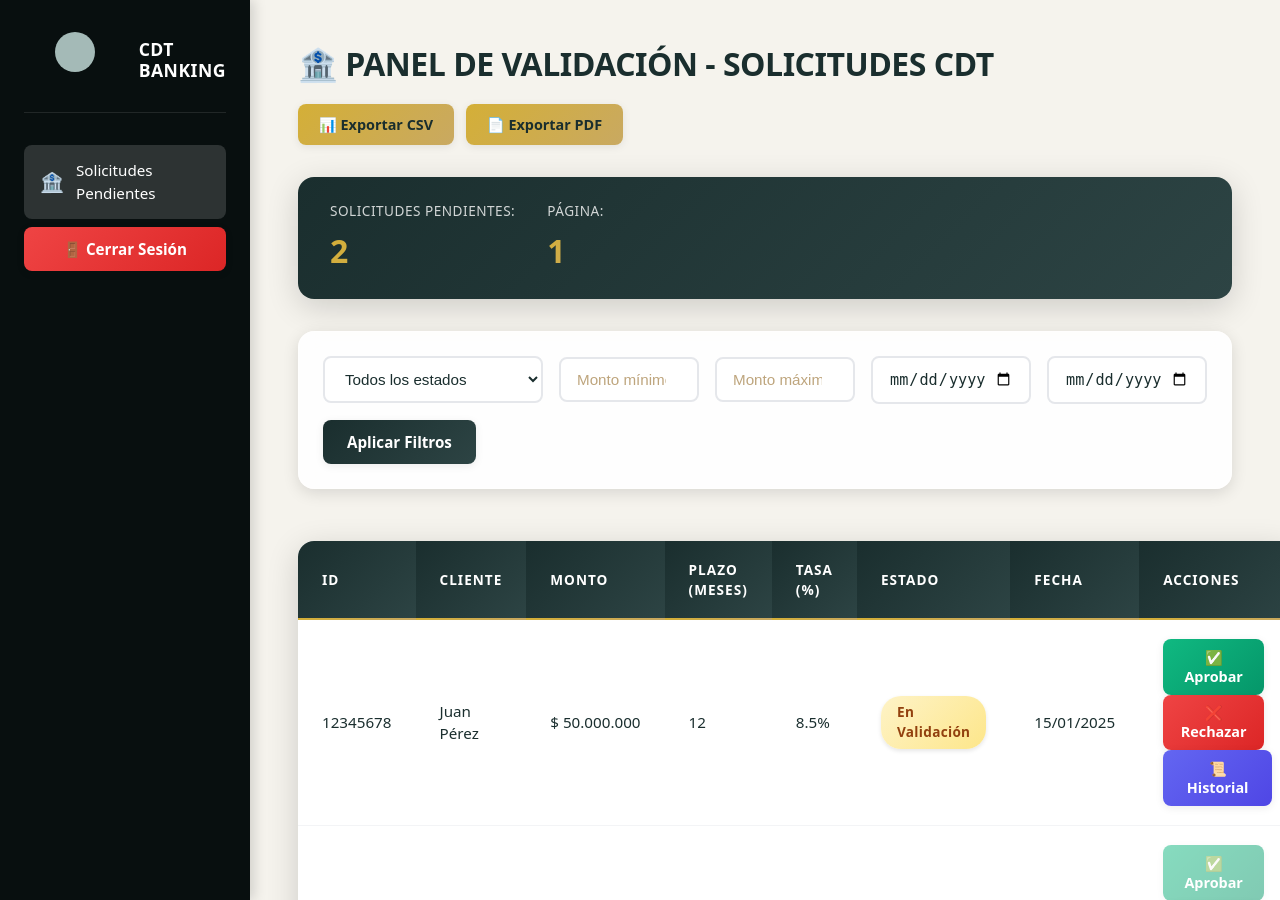
it: AgenteDashboard Component › Filtros › Debe filtrar por estado
This screenshot has width=1280, height=900.
expect the text "Juan Pérez" is shown: met, box [416,620,526,826]
Select "Aprobada" in the dropdown showing "Todos los estados" at (433, 380), box [323,356,543,403]
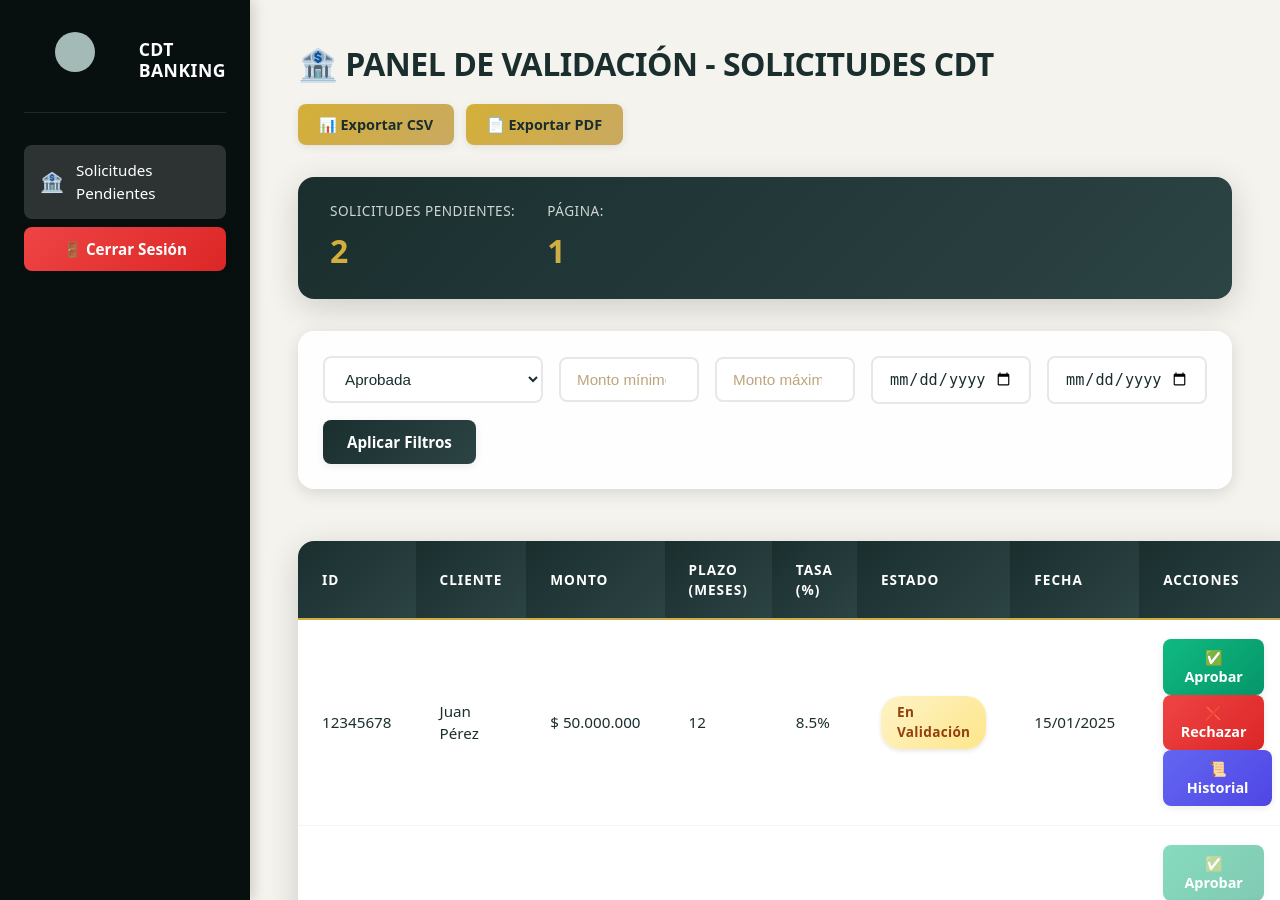
Click the button "Aplicar Filtros" at (399, 442), box [323,420,476,464]
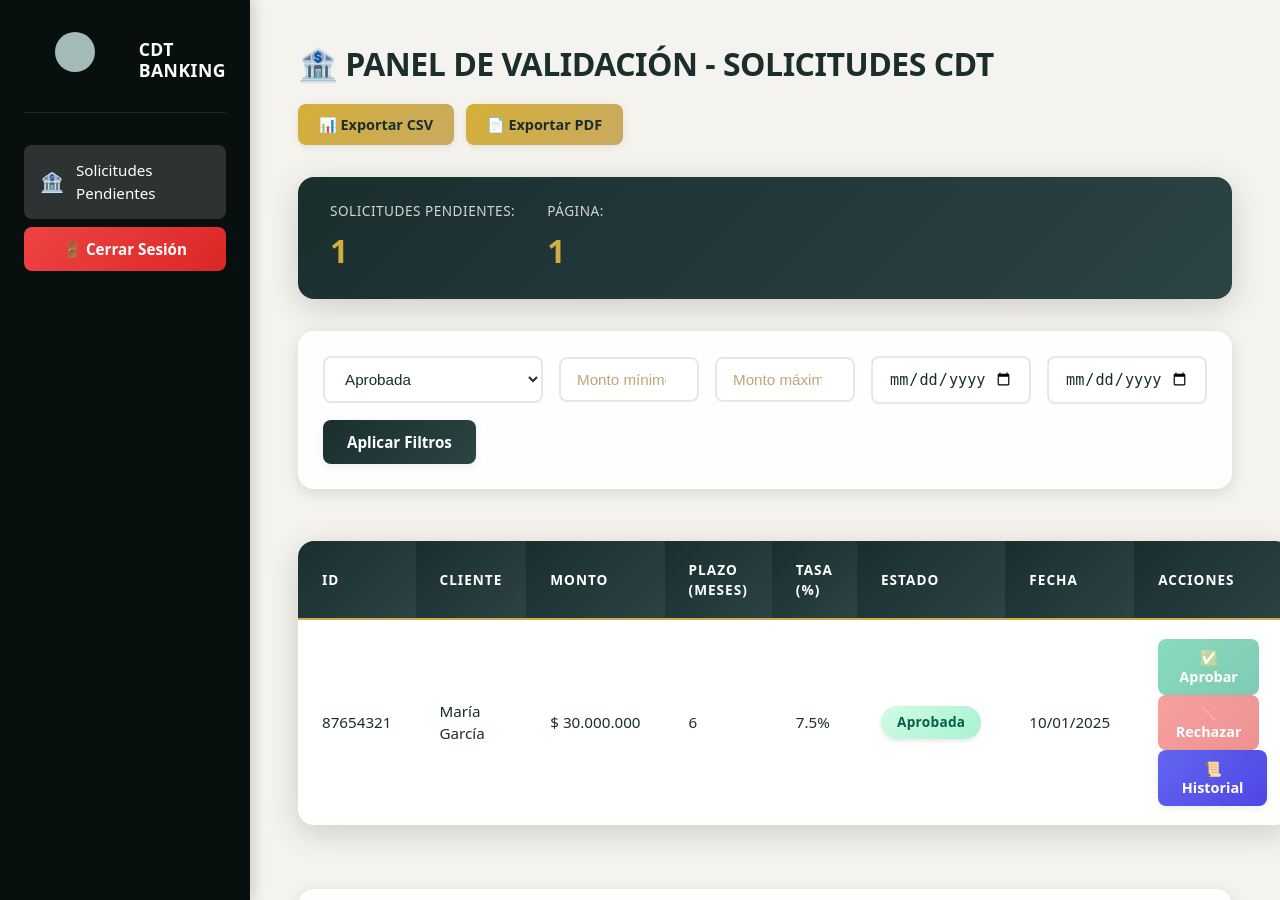
expect the text "María García" is shown: met, box [416,620,526,825]
expect the text "Juan Pérez" is gone: met
